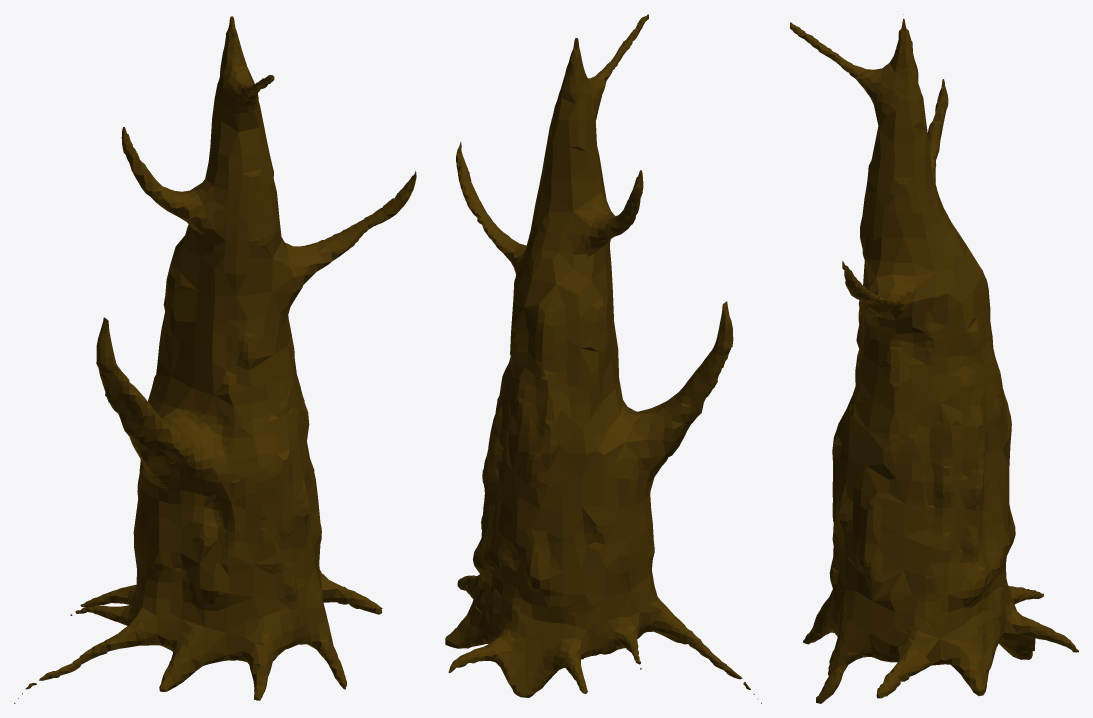
The model's file is tree.fbx.
3 views of the same model, side by side, from view 1: azimuth 30°, elevation 25°; view 2: azimuth 150°, elevation 25°; view 3: azimuth 270°, elevation 25° (orthographic). The views are drawn at different scales.
Parts seen in each view (by area): view 1: Cylinder; view 2: Cylinder; view 3: Cylinder.
Boxes of the visible parts, x1=… form: Cylinder: x1=14, y1=16, x2=416, y2=703; Cylinder: x1=445, y1=14, x2=761, y2=703; Cylinder: x1=790, y1=14, x2=1078, y2=703.
Size of the model in its own units: 472 by 826 by 331.
